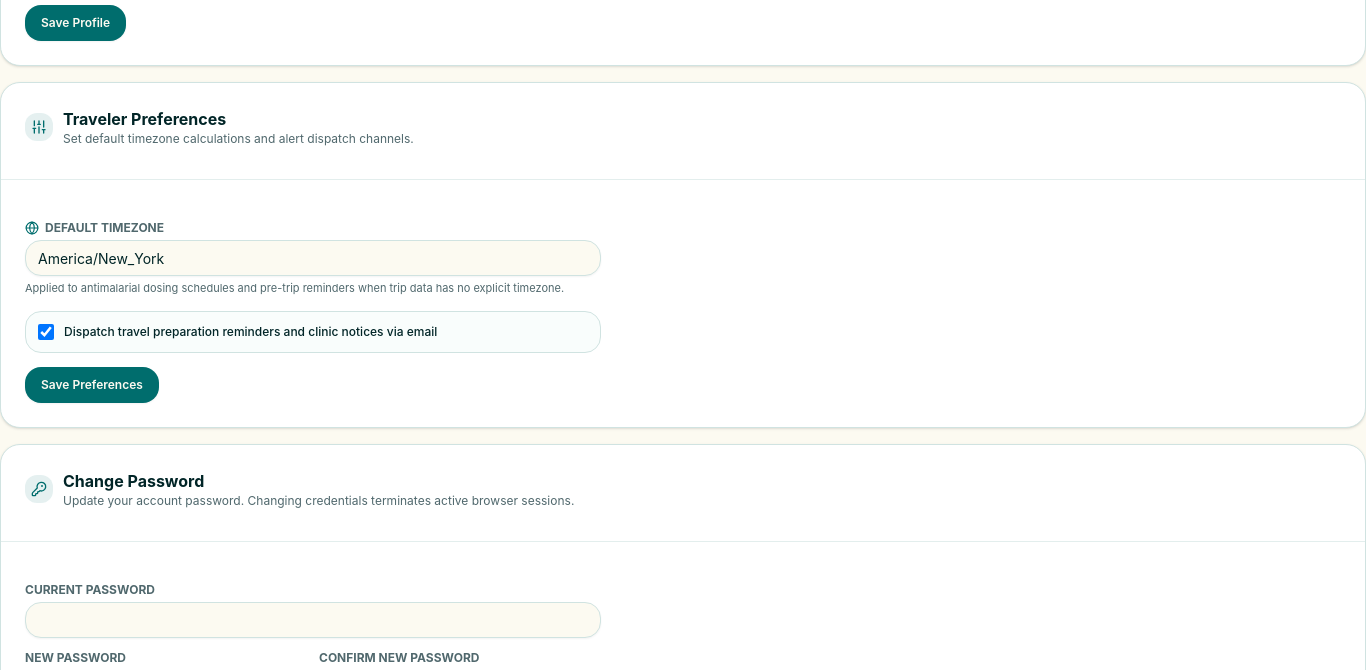
AccountPage › submits preferences update successfully
(page scrolled)
Click the button "Save Preferences".
click(92, 384)  # box [25, 366, 159, 402]
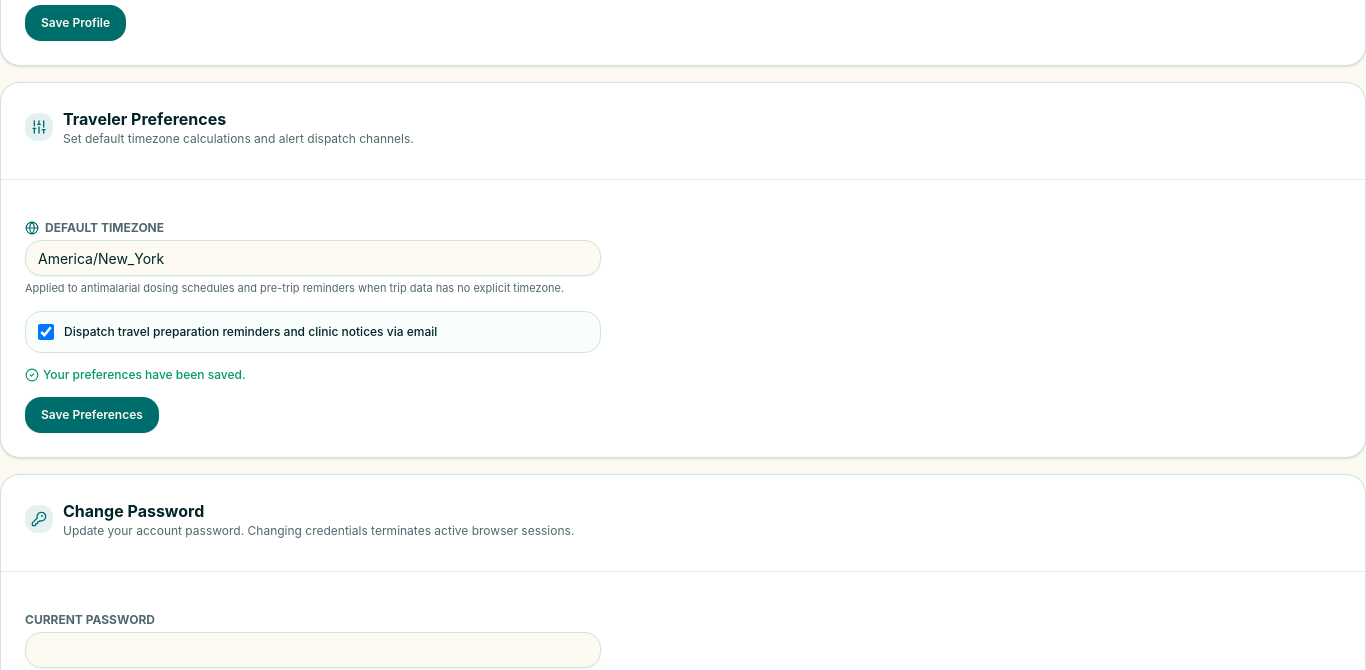
Expected: the text "Your preferences have been saved." is shown, [25, 366, 246, 382]
